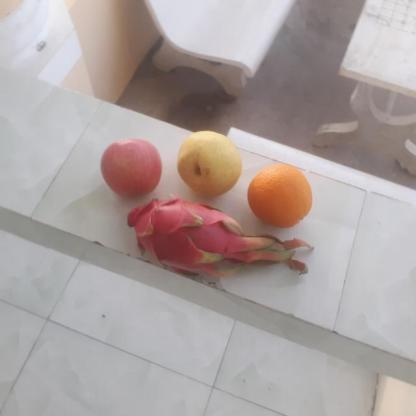apple: (98, 137, 163, 198)
orange: (244, 164, 314, 227)
pear: (172, 132, 246, 199)
pitaya: (119, 195, 239, 270)
